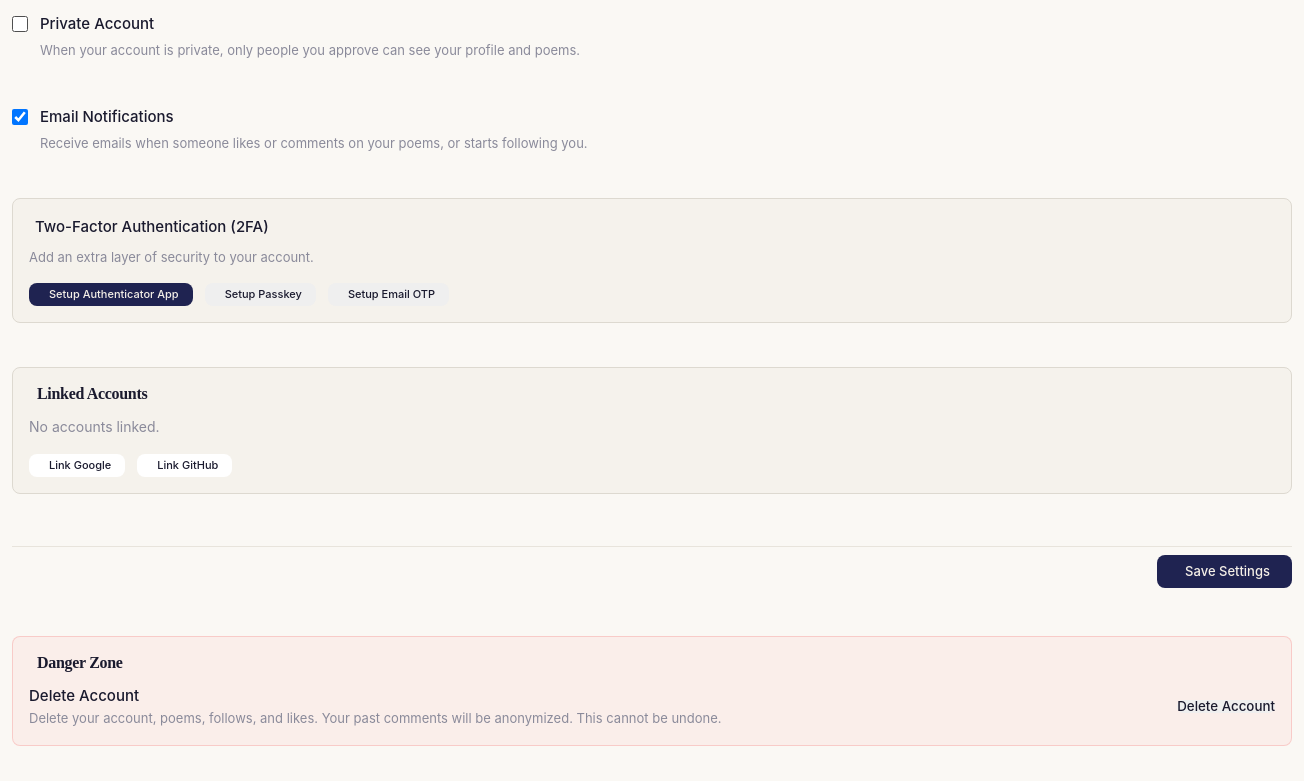
AccountSettingsClient › displays error message if update fails
The width and height of the screenshot is (1304, 781).
Click the button "Save Settings": (1225, 572) x1=1157 y1=555 x2=1292 y2=588
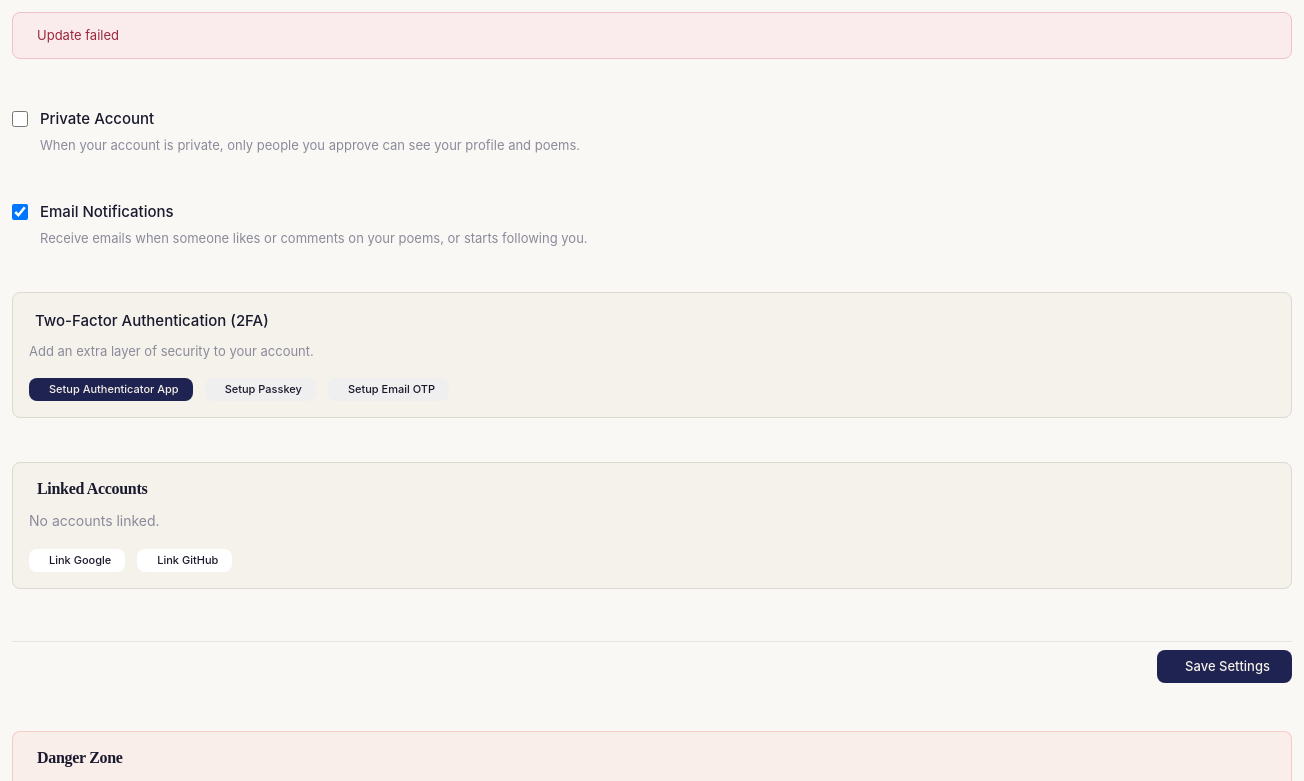
Expected: the text "Update failed" is shown, x1=12 y1=12 x2=1292 y2=59
